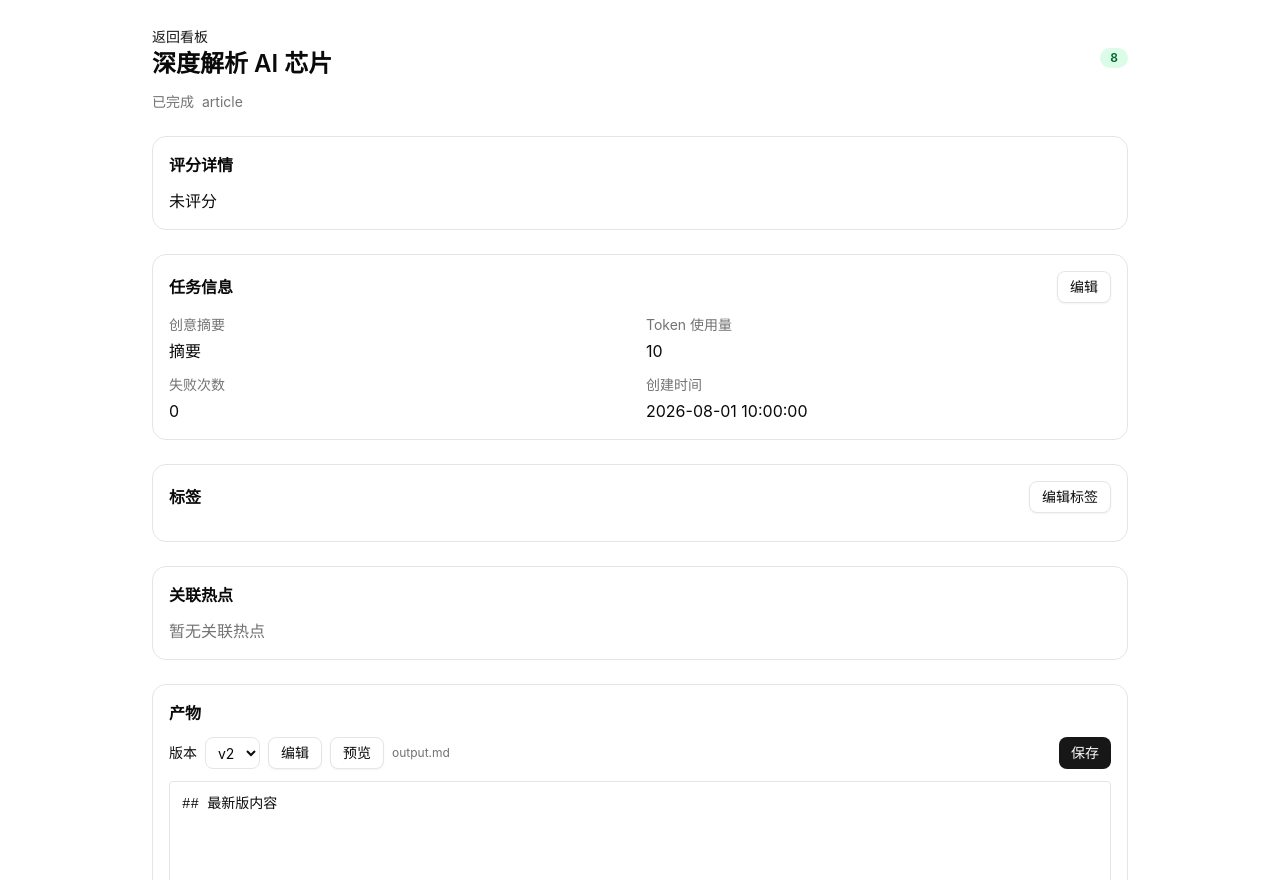
Test: TaskDetailPage output section › views an older version from the selector
Select "v1" in the dropdown named "版本选择": (232, 753) [205,737,260,769]
(page scrolled)
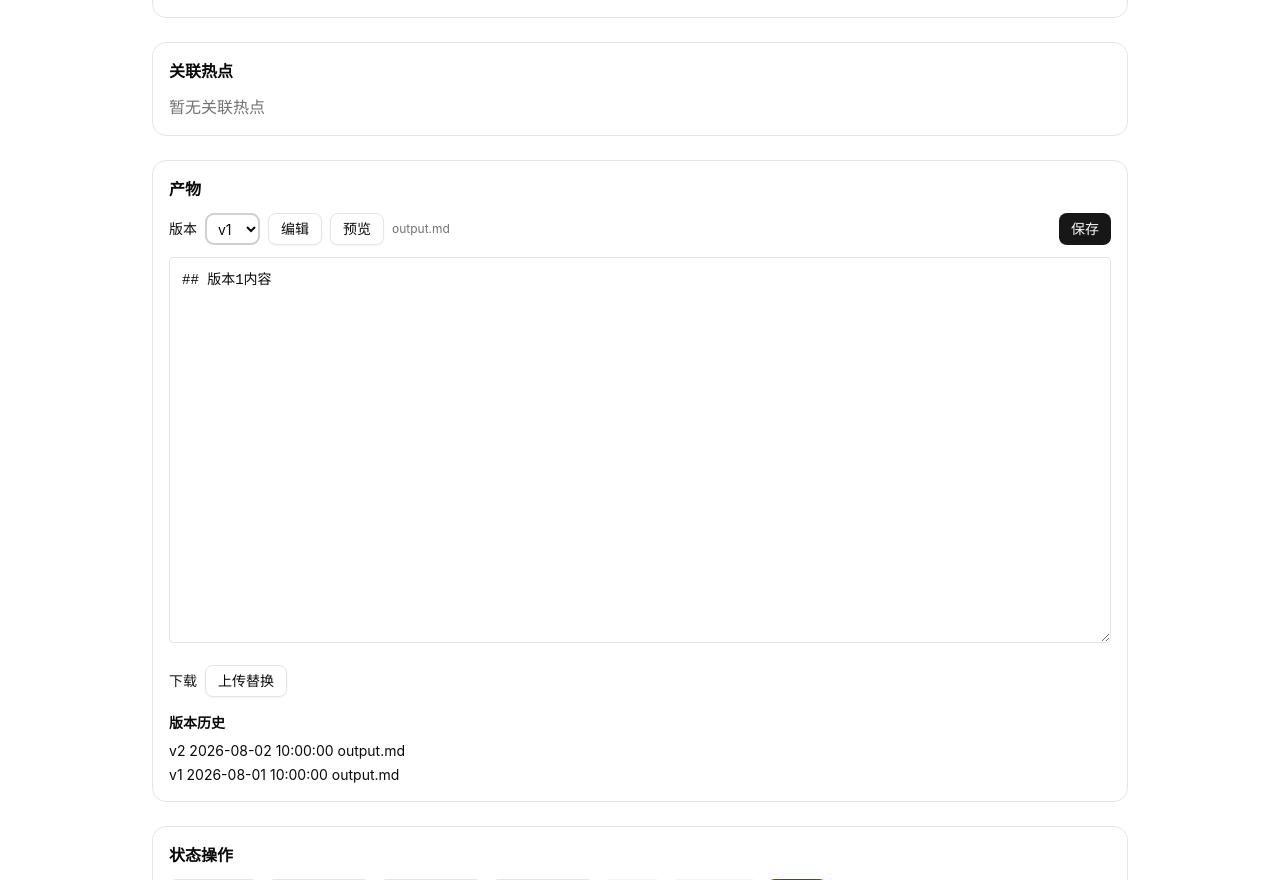
Check: the text box named "产物内容" holds "## 版本1内容", box [169,257,1111,643]
